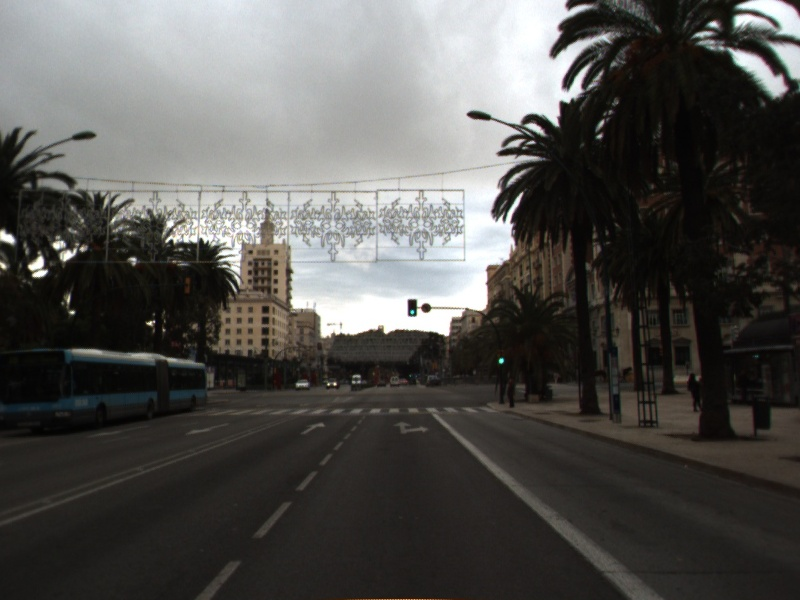STRAIGHT: (298, 420, 328, 437)
STRAIGHT_RIGHT: (391, 419, 431, 436)
